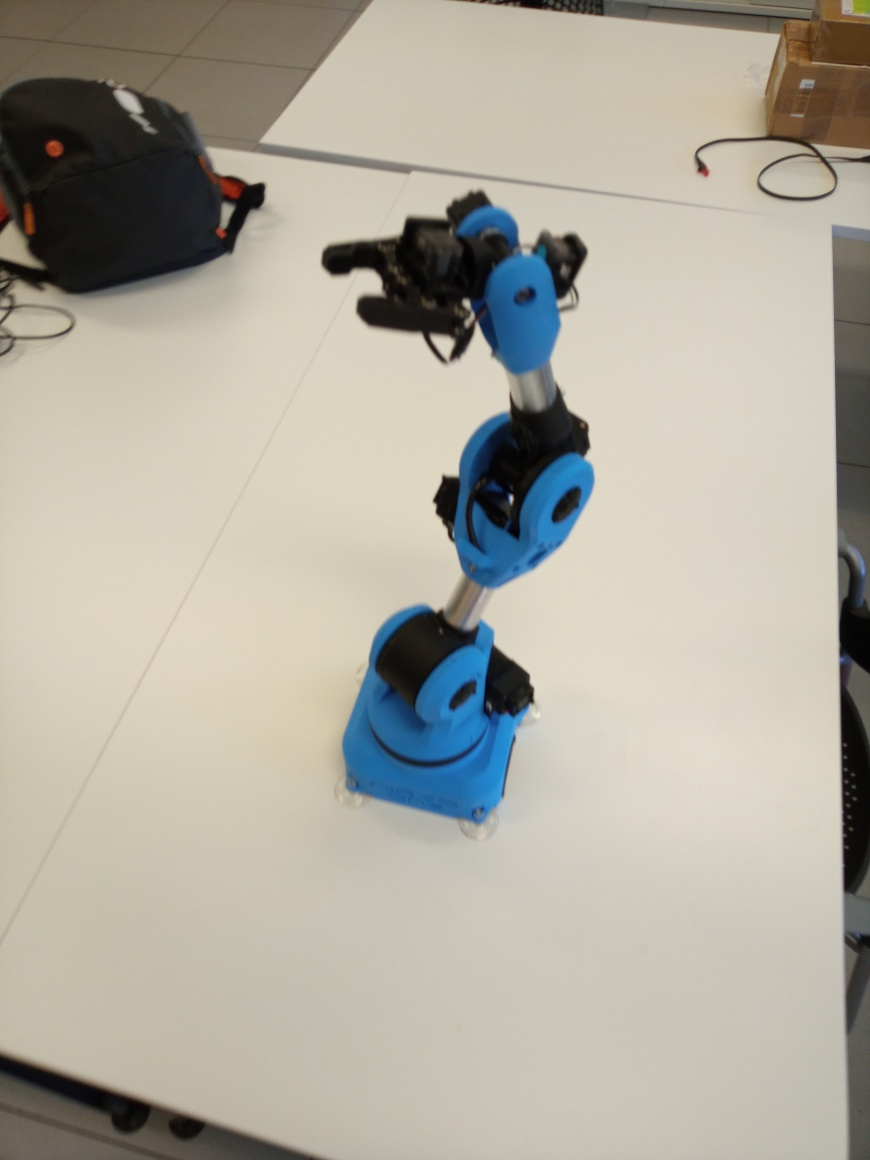robot: (319, 189, 604, 846)
